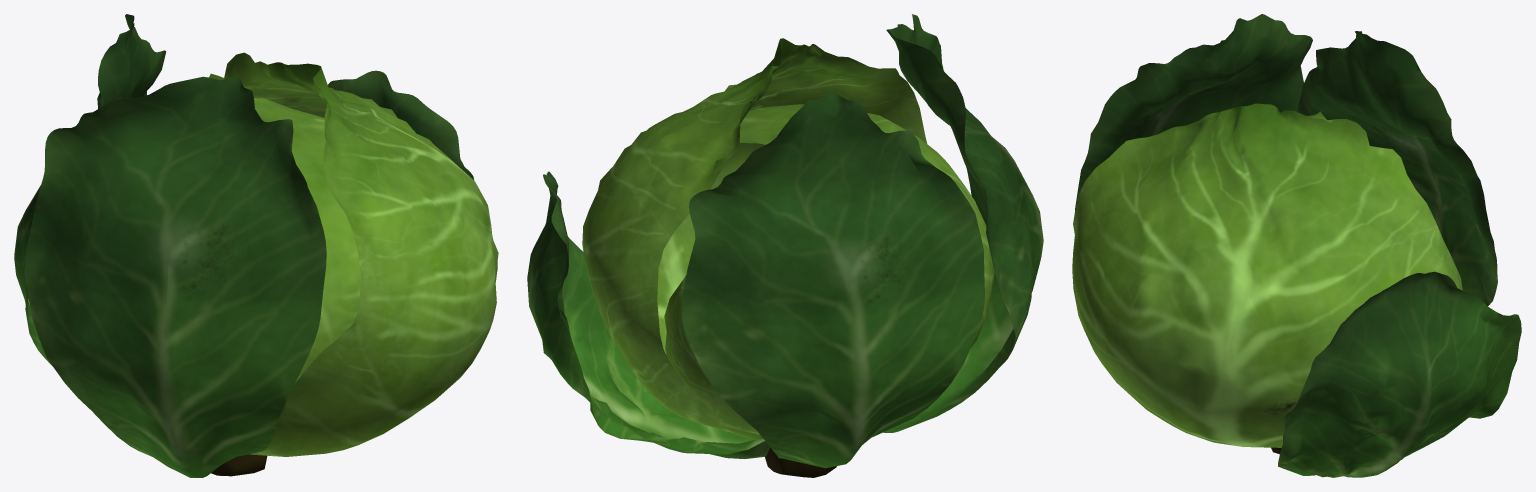
Rendered from SM_Plant_11.fbx.
3 views of the same model, side by side, from view 1: azimuth 30°, elevation 25°; view 2: azimuth 150°, elevation 25°; view 3: azimuth 270°, elevation 25° (orthographic). The views are drawn at different scales.
Parts seen in each view (by area): view 1: SM_Plant_11; view 2: SM_Plant_11; view 3: SM_Plant_11.
Part boxes in pixels (x1=…): SM_Plant_11: x1=14, y1=14, x2=498, y2=477; SM_Plant_11: x1=527, y1=14, x2=1043, y2=477; SM_Plant_11: x1=1072, y1=14, x2=1521, y2=477.
Size of the model in its own units: 13.91 by 13.18 by 12.6.
Materials: 1 (1 with a texture image).
